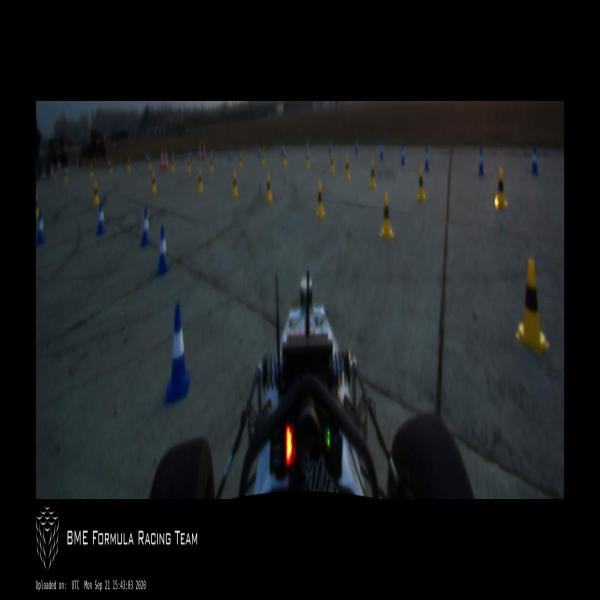blue_cone: (165, 305, 191, 404), (157, 226, 170, 274), (139, 206, 152, 248), (96, 201, 106, 236), (38, 212, 47, 244), (530, 144, 538, 176), (478, 149, 485, 175), (424, 147, 430, 171), (401, 146, 406, 166), (380, 143, 384, 160), (355, 140, 359, 154), (329, 140, 332, 154), (306, 140, 308, 154)
large_orange_cone: (164, 149, 169, 171), (160, 149, 164, 170)
yellow_cone: (516, 261, 549, 356), (381, 193, 393, 237), (495, 168, 507, 210), (316, 180, 325, 218), (416, 168, 425, 202), (266, 174, 272, 204), (370, 160, 376, 189), (93, 180, 99, 206), (150, 172, 157, 194), (197, 170, 203, 193), (232, 172, 237, 197), (345, 158, 350, 180), (282, 148, 287, 166), (36, 193, 39, 219), (306, 150, 310, 169), (187, 158, 191, 174), (331, 154, 334, 174), (170, 157, 174, 172), (262, 151, 266, 166), (239, 154, 242, 170), (210, 156, 213, 172)
